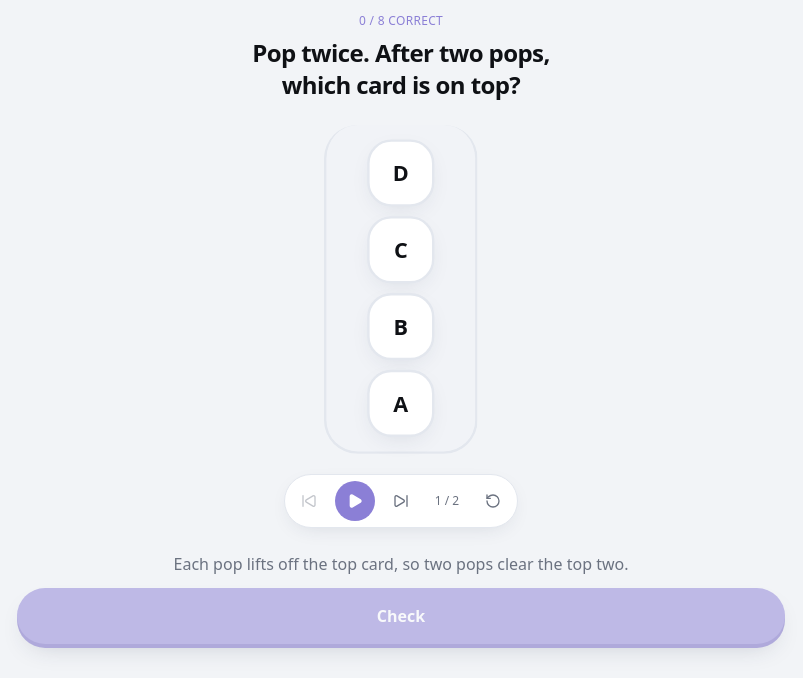
Test case: S&Q stage: de-cued stack predict › marks the after-two-pops answer and resolves it correct
Click the button "B" at (401, 327), box [367,293,435,360]
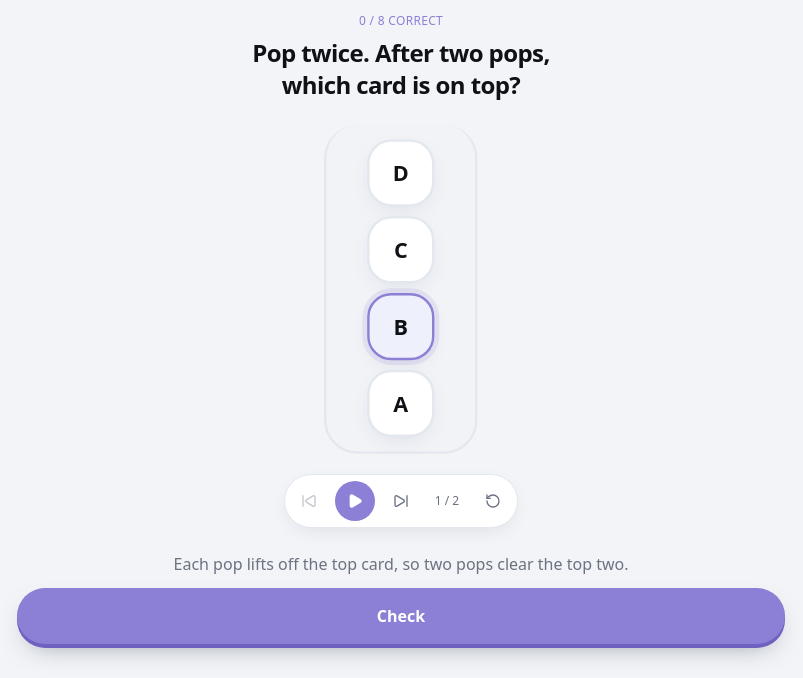
Click the button "Check" at (401, 616), box [17,588,785,644]
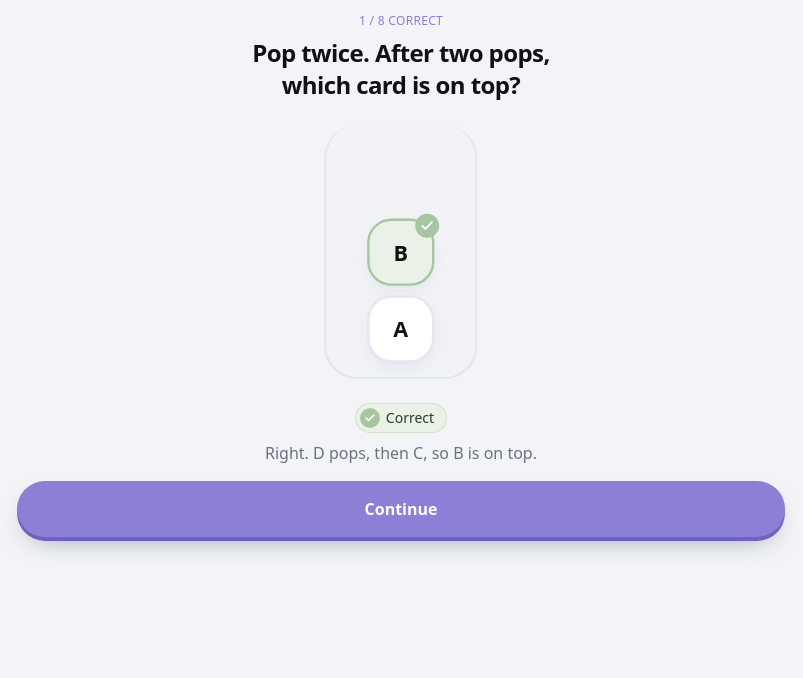
Expected: the button "Continue" is shown, [17,481,785,537]
